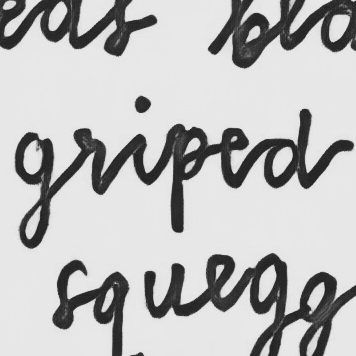d: (260, 106, 315, 190)
e: (217, 124, 253, 190)
g: (10, 129, 58, 250)
i: (126, 93, 156, 188)
p: (166, 122, 211, 235)
r: (69, 126, 112, 196)
